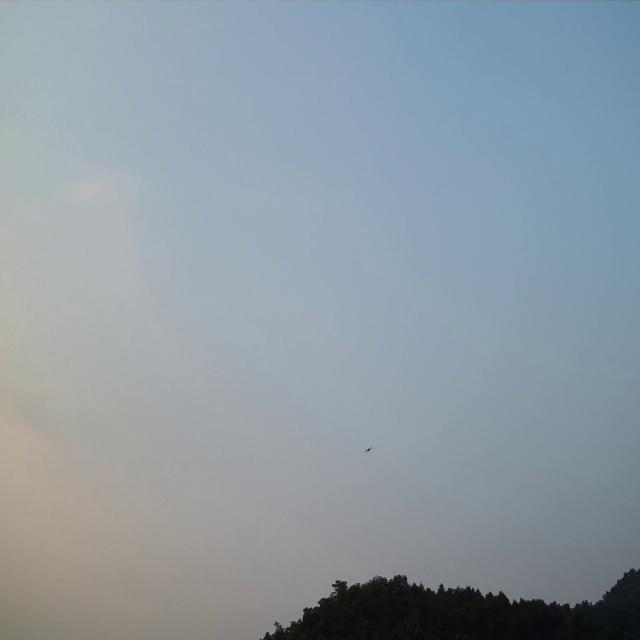drone: (365, 446, 373, 453)
